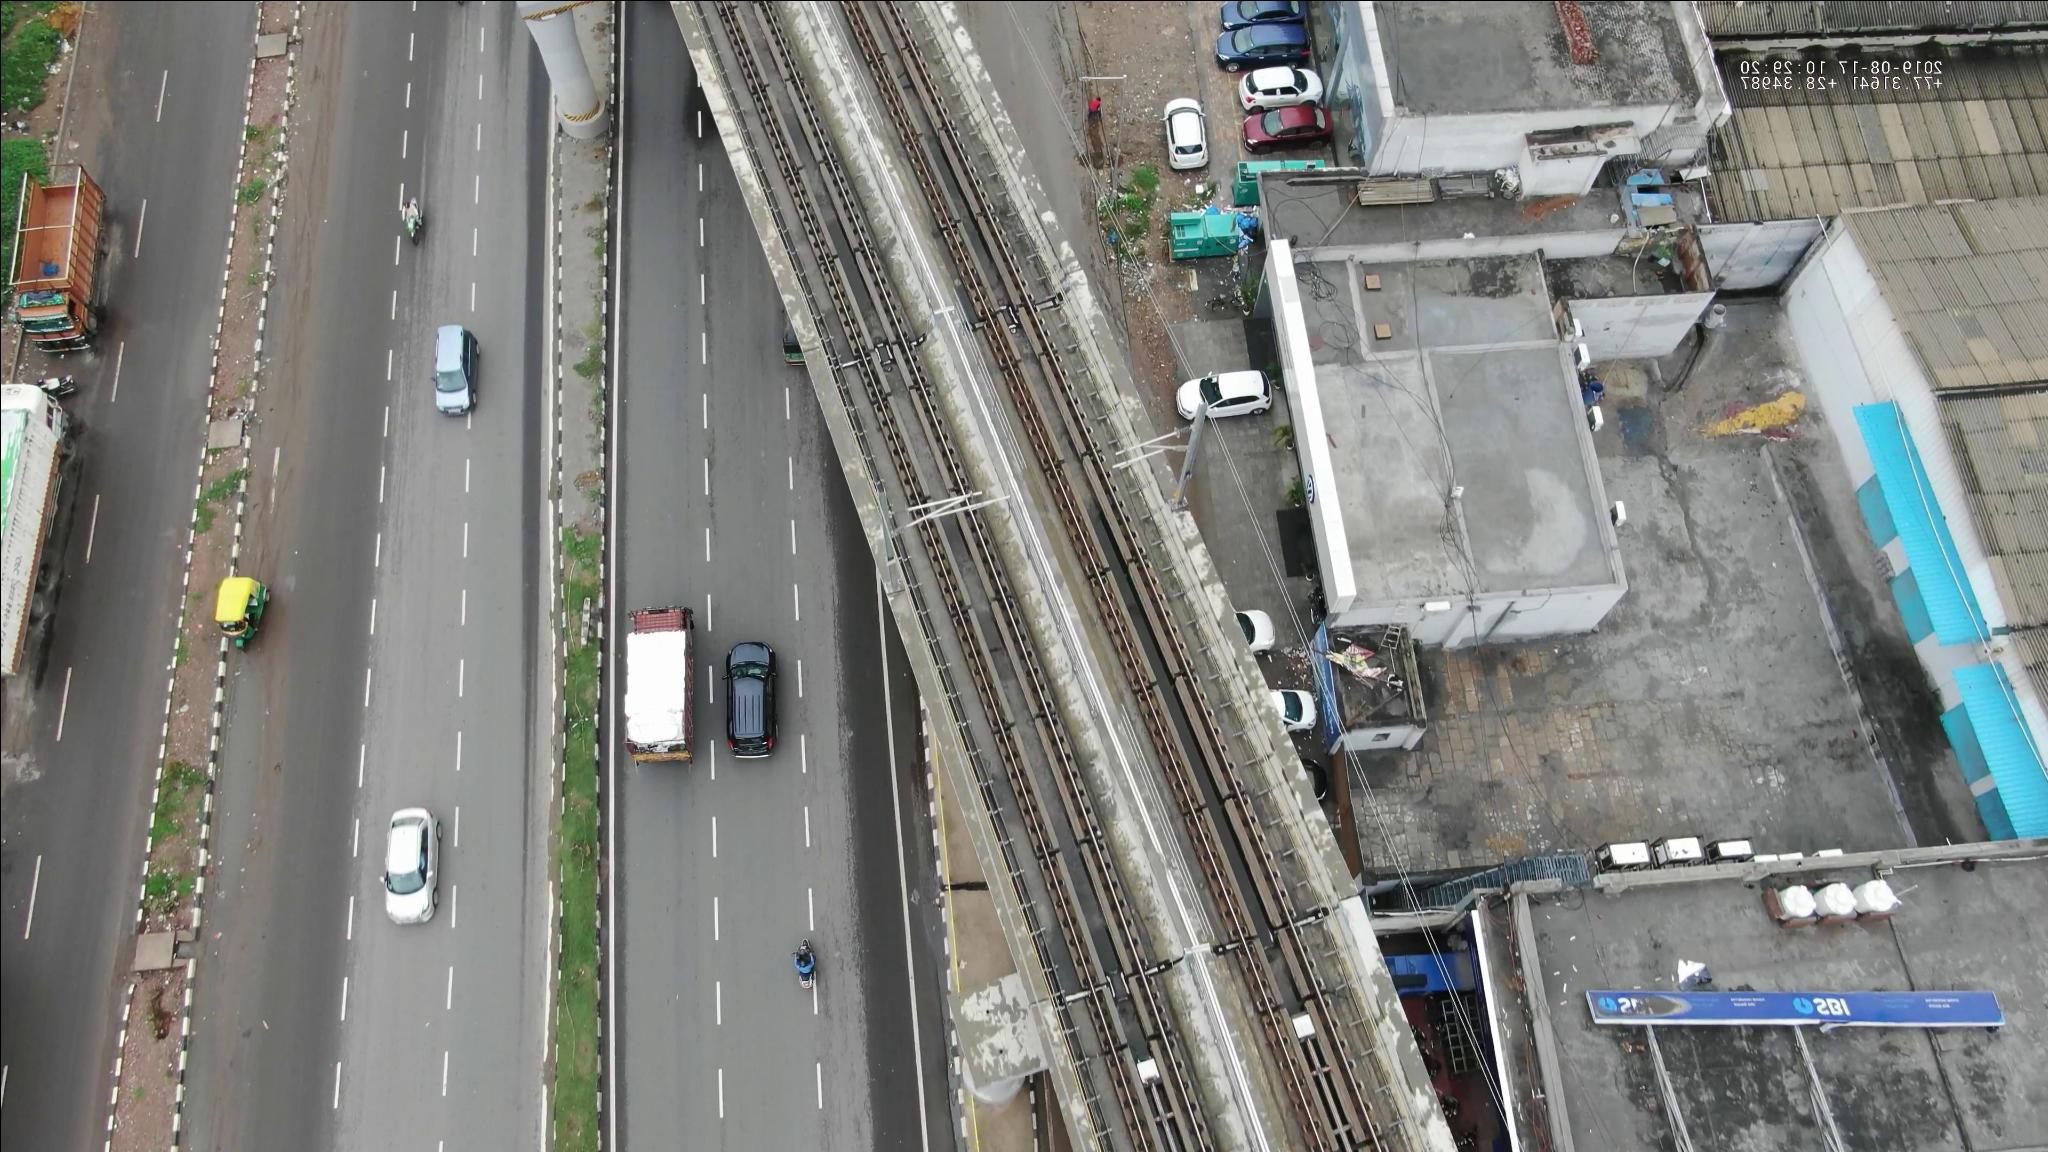Muddy_road: (252, 287, 324, 558), (276, 39, 347, 280)
Potholes: (13, 737, 44, 792)
Ravelling: (699, 307, 724, 537)
Waterlogging: (212, 655, 279, 904)
